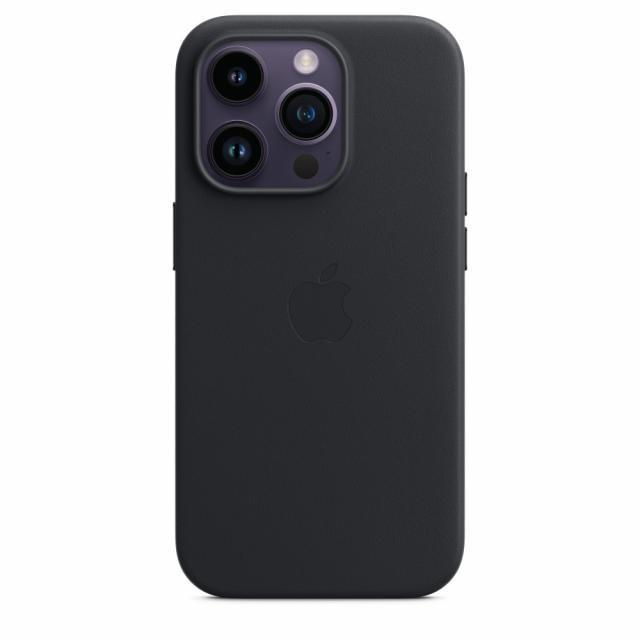phone: (172, 14, 468, 603)
